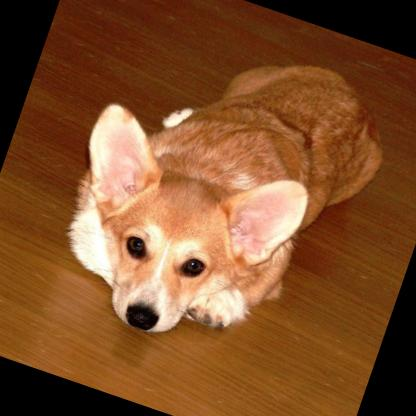Pembroke: (30, 0, 406, 389)
